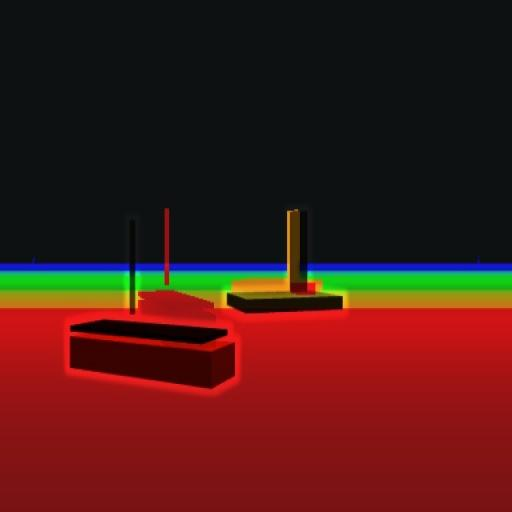platform: (230, 212, 344, 313)
vessel: (67, 233, 237, 391)
